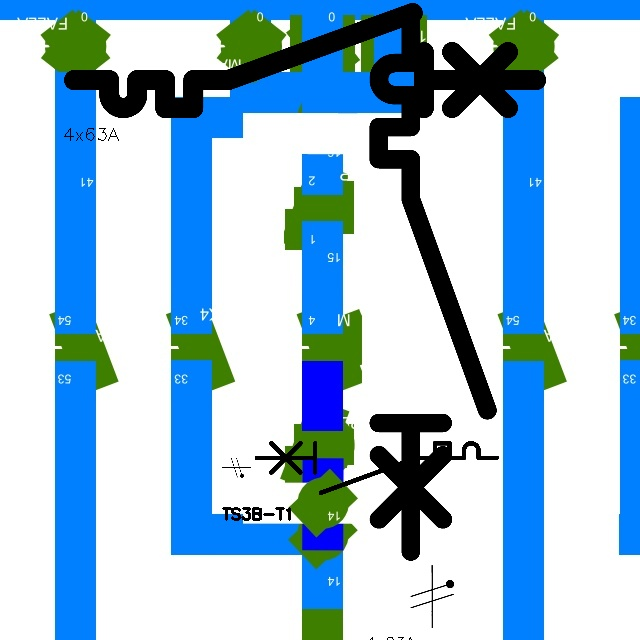interruptor_termomagnetico: (365, 9, 501, 565), (62, 1, 547, 120), (250, 437, 503, 499)
